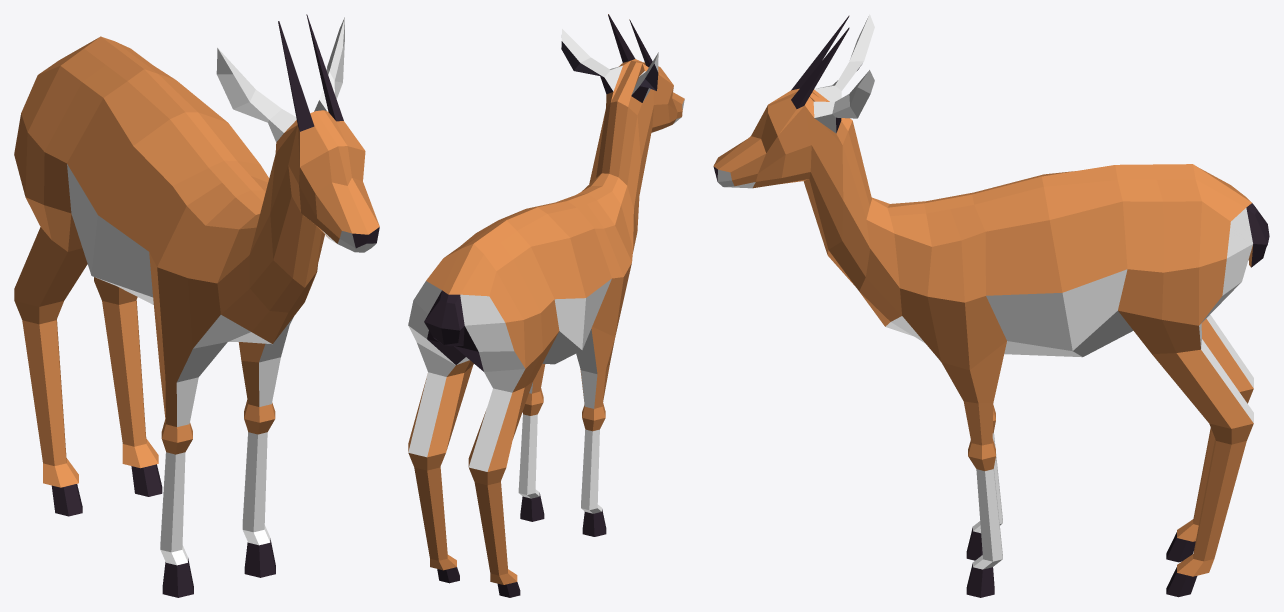
File: Antilope.fbx
3 views of the same model, side by side, from view 1: azimuth 30°, elevation 25°; view 2: azimuth 150°, elevation 25°; view 3: azimuth 270°, elevation 25° (orthographic). The views are drawn at different scales.
Visible parts, largest first — view 1: Antilope; view 2: Antilope; view 3: Antilope.
Part boxes in pixels (left/top/right/bottom): Antilope: left=14, top=14, right=379, bottom=597; Antilope: left=408, top=14, right=684, bottom=597; Antilope: left=713, top=14, right=1269, bottom=597.
Size of the model in its own units: 0.4277 by 1.65 by 1.51.
